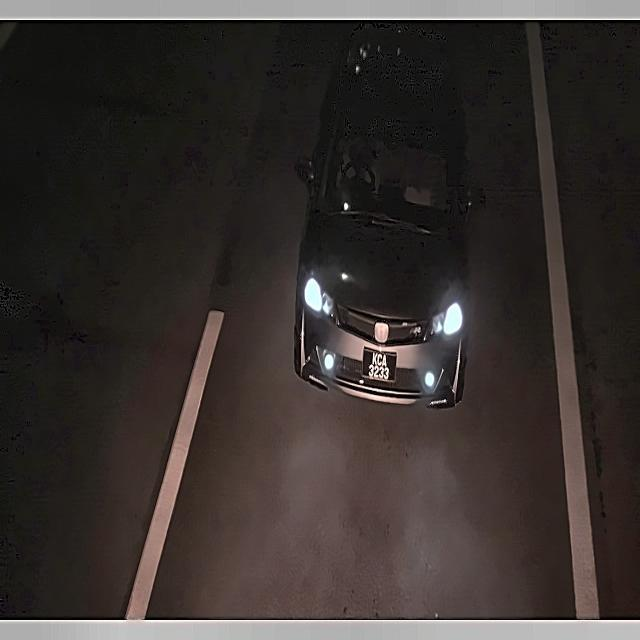car: (361, 341, 396, 393)
